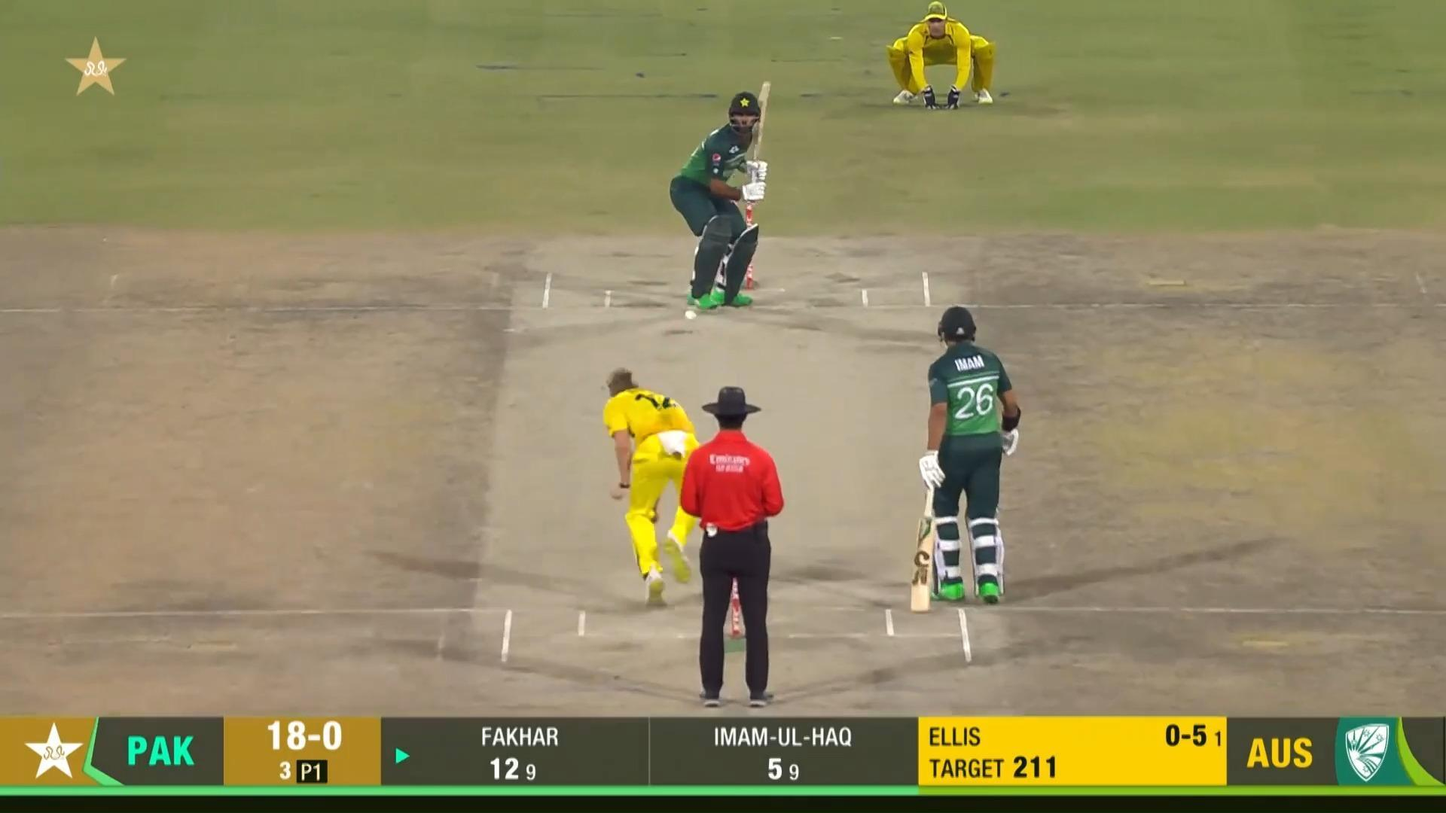BM 1: (669, 82, 772, 311)
BO: (600, 366, 706, 614)
